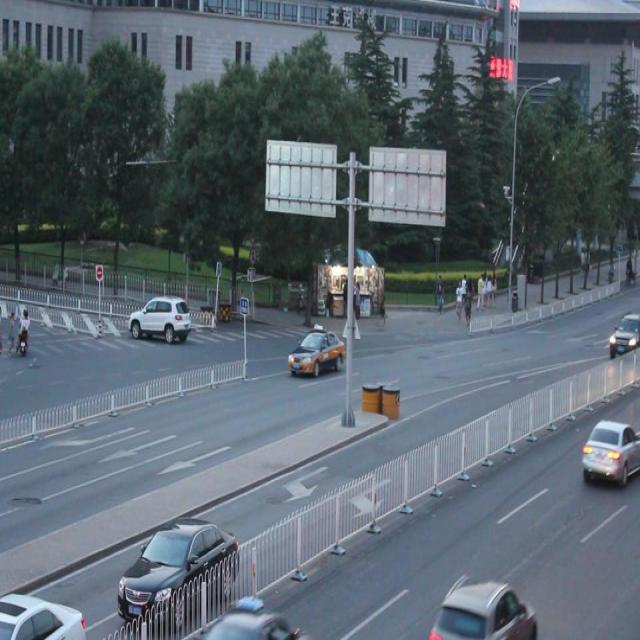car: (116, 522, 238, 623), (431, 570, 535, 640), (1, 588, 87, 640), (578, 413, 640, 484), (128, 297, 192, 343), (287, 327, 343, 378), (606, 310, 640, 356)
